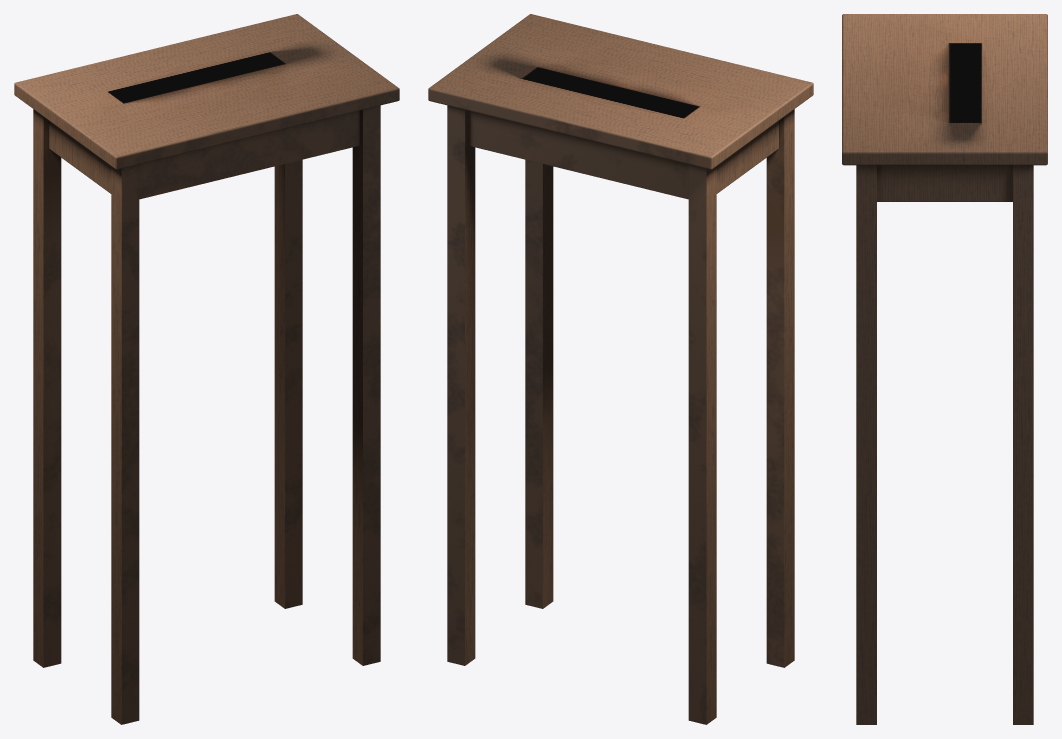
File: 817_disp.glb
The picture shows the model from 3 angles, left to right: view 1: azimuth 30°, elevation 25°; view 2: azimuth 150°, elevation 25°; view 3: azimuth 270°, elevation 25°; orthographic projection.
Parts seen in each view (by area): view 1: Table; view 2: Table; view 3: Table.
Boxes of the visible parts, <box> form: Table: <box>14,14,399,724</box>; Table: <box>428,14,813,724</box>; Table: <box>842,14,1047,724</box>.
Size of what is drawn, in the model's own units: 1.6 by 3.1 by 1.
Materials: 1 (1 with a texture image).
